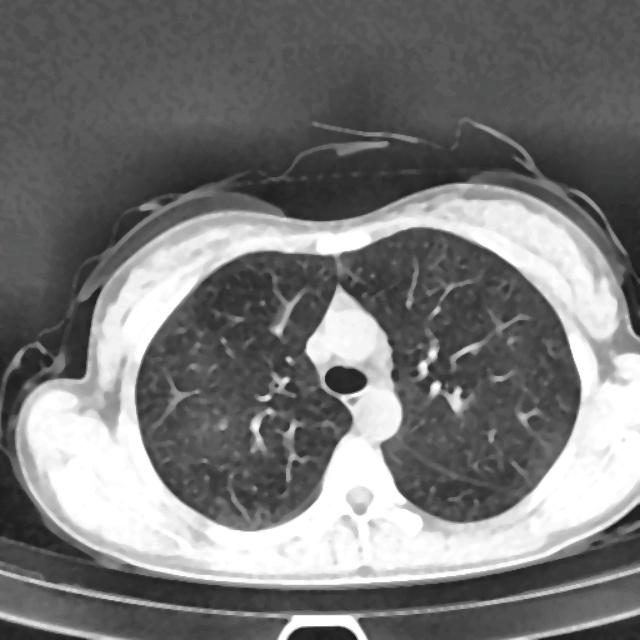covid: (2, 117, 639, 589)
